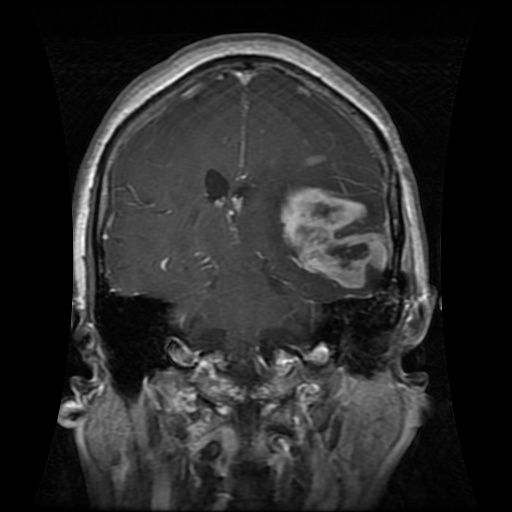glioma: (269, 186, 390, 287)
